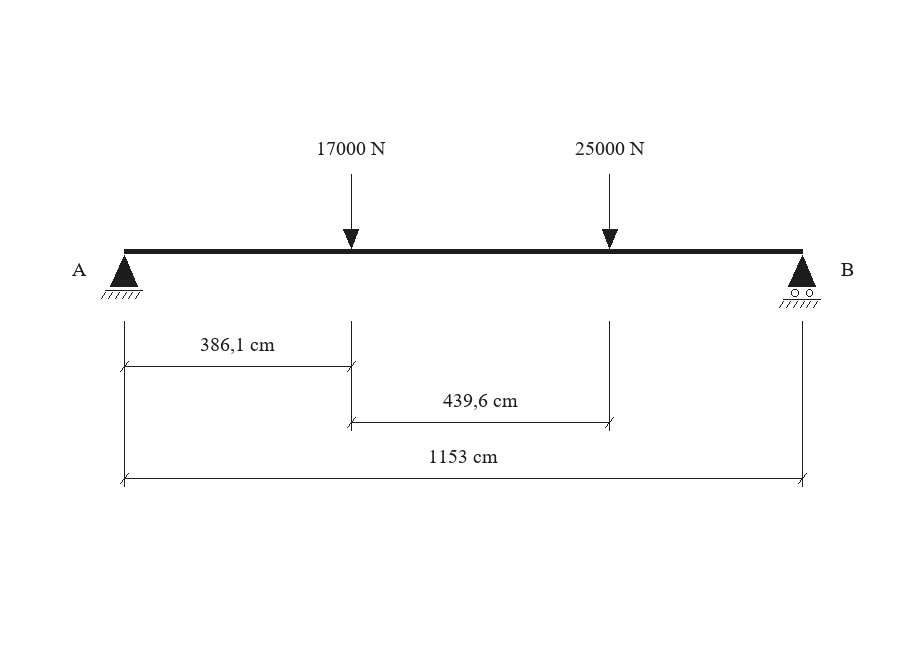pin_support: (101, 255, 143, 299)
point_load: (343, 174, 359, 249), (602, 174, 618, 249)
roller_support: (779, 255, 821, 308)
